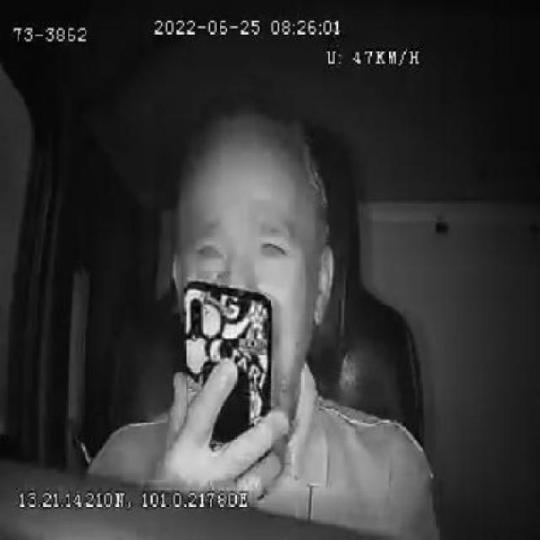phone: (184, 282, 273, 483)
